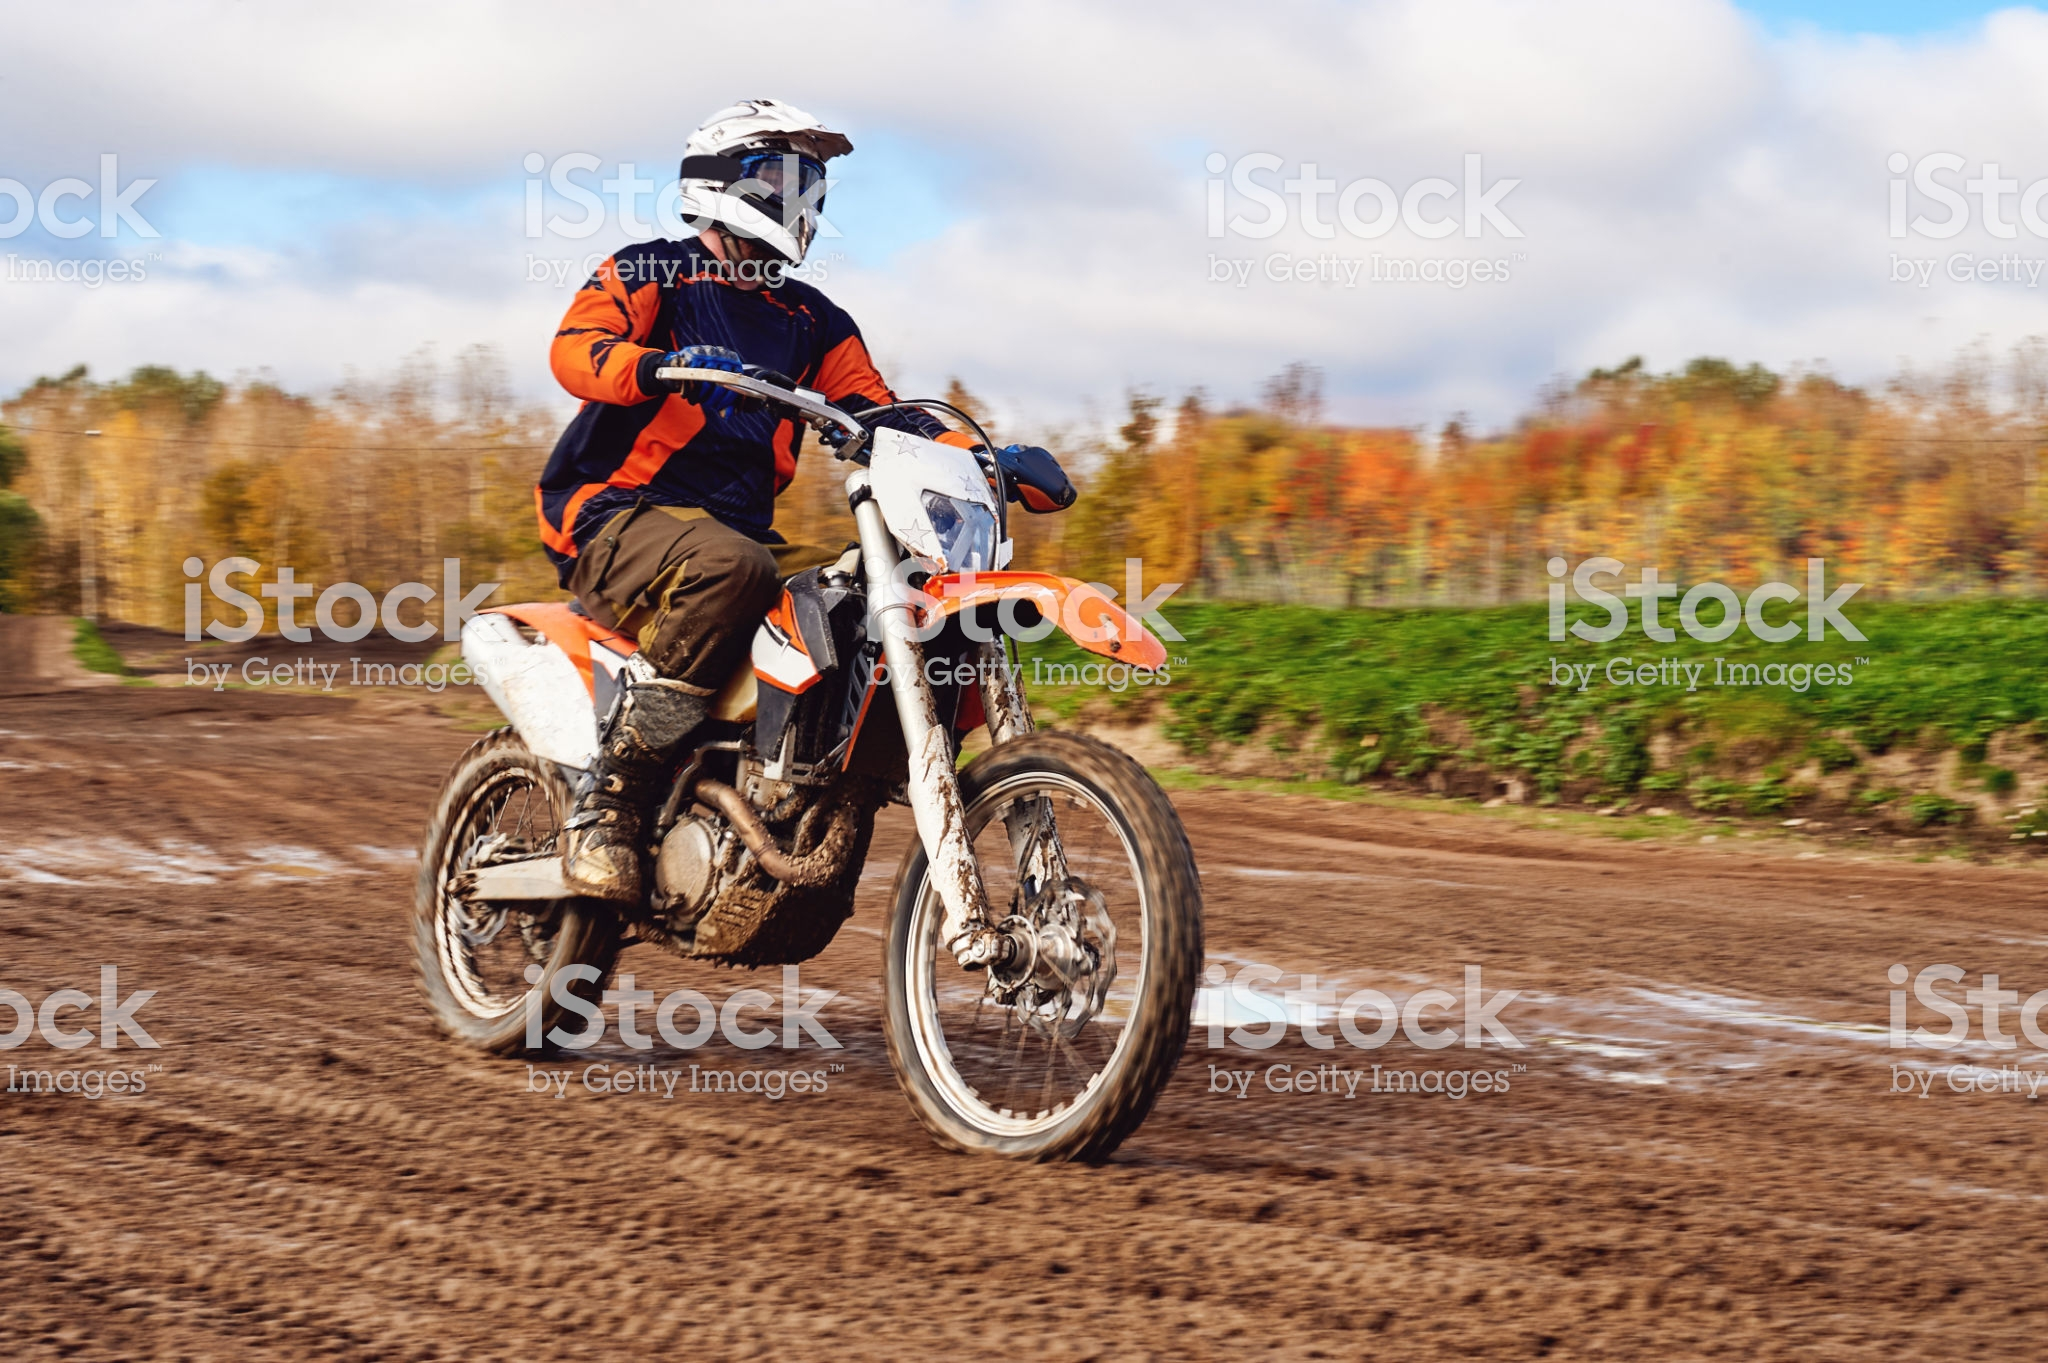helmet: (648, 90, 877, 265)
